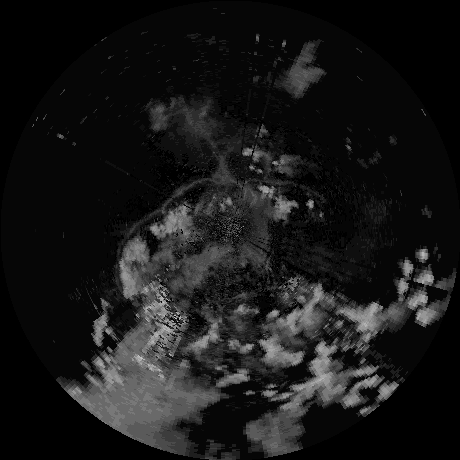frontgust: (117, 210, 159, 254), (163, 179, 210, 208)
